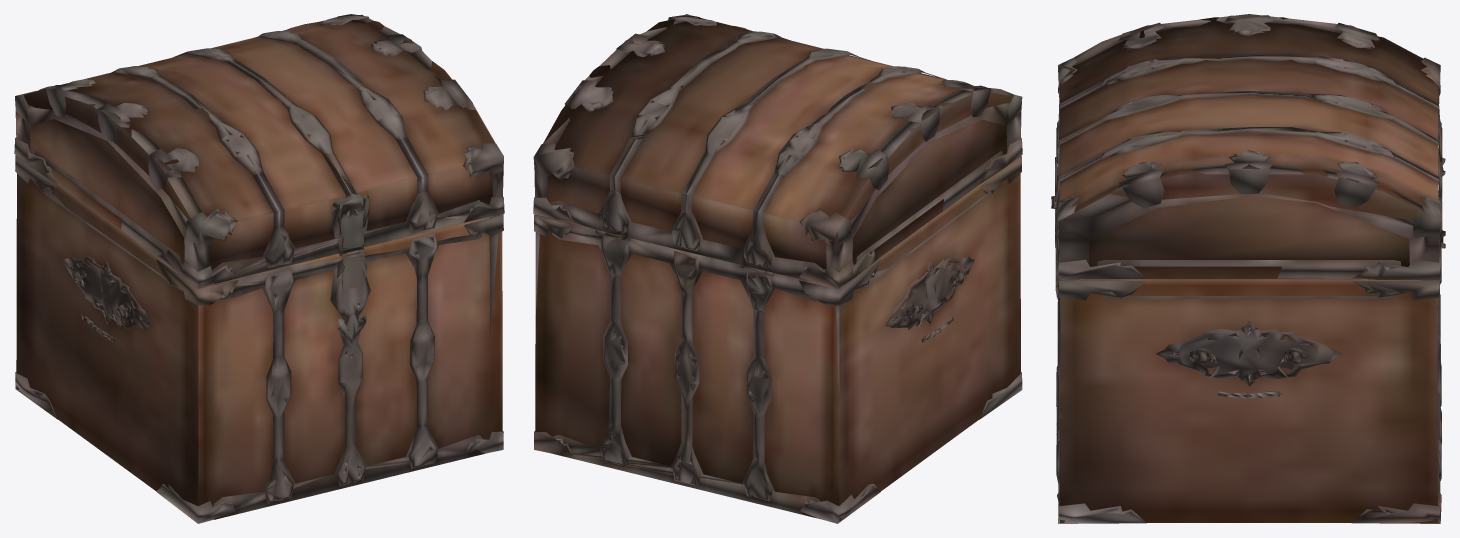
The model's file is ph-treasure-chest.glb.
The picture shows the model from 3 angles, left to right: view 1: azimuth 30°, elevation 25°; view 2: azimuth 150°, elevation 25°; view 3: azimuth 270°, elevation 25°; orthographic projection. The views are drawn at different scales.
Parts seen in each view (by area): view 1: treasure_chest_bottom; view 2: treasure_chest_bottom; view 3: treasure_chest_bottom.
Boxes of the visible parts, box(x1,y1,x2,y2) form: treasure_chest_bottom: box(14, 14, 504, 523); treasure_chest_bottom: box(533, 14, 1022, 523); treasure_chest_bottom: box(1051, 14, 1445, 523).
Size of the model in its own units: 0.9959 by 0.9975 by 0.9989.
Materials: 1 (1 with a texture image).
